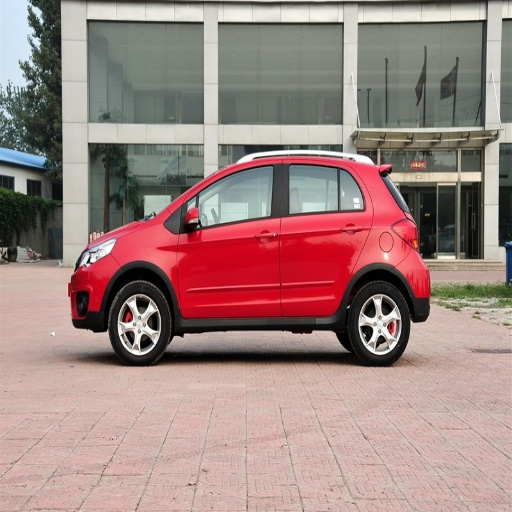back_left_door: (282, 160, 371, 313)
front_left_door: (178, 161, 283, 315)
